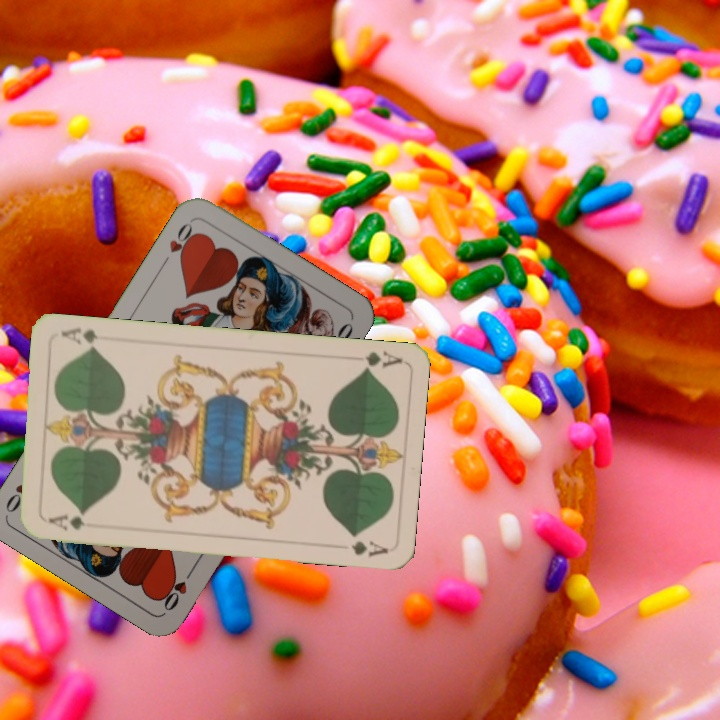GA: (359, 347, 404, 374), (44, 509, 90, 534)
HO: (157, 216, 200, 269), (157, 561, 198, 614)
